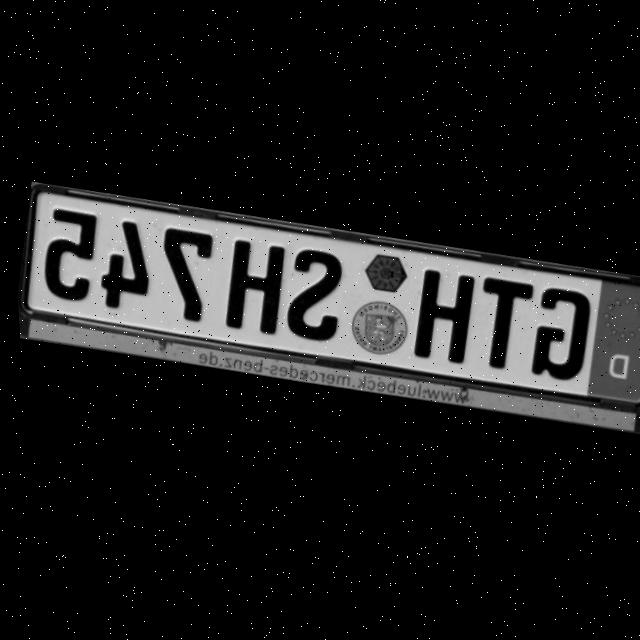license-plates: (20, 186, 640, 407)
